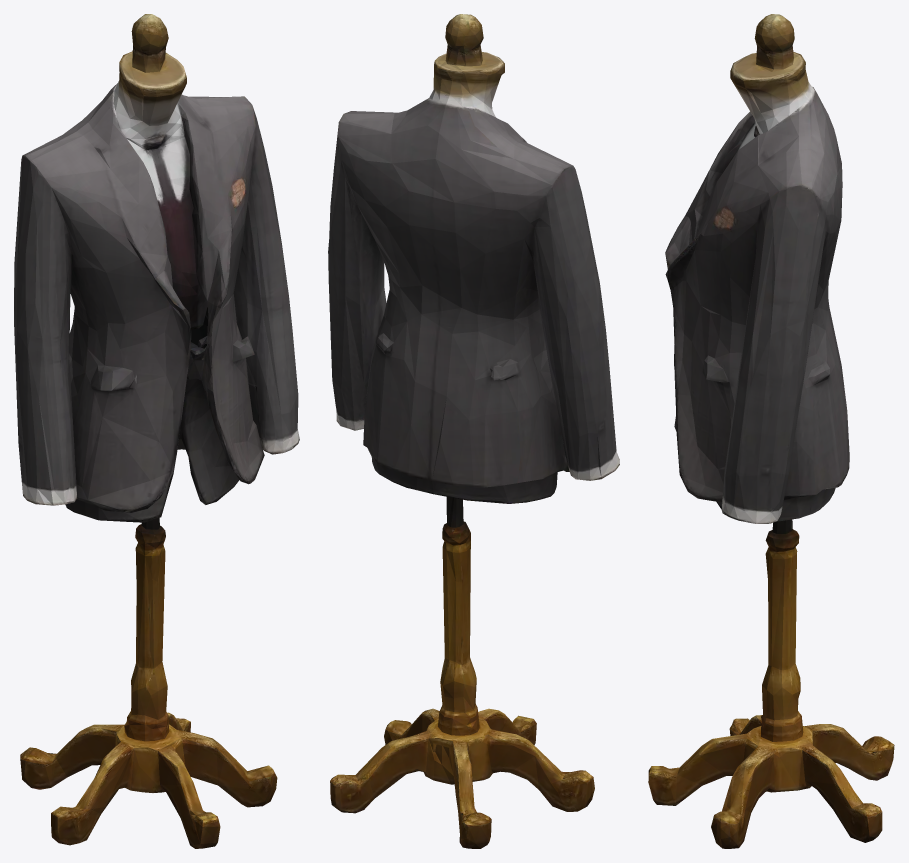
The picture shows the model from 3 angles, left to right: view 1: azimuth 30°, elevation 25°; view 2: azimuth 150°, elevation 25°; view 3: azimuth 270°, elevation 25°; orthographic projection.
Parts seen in each view (by area): view 1: geometry_0; view 2: geometry_0; view 3: geometry_0.
Boxes of the visible parts, x1,y1,x2,y2 form: geometry_0: (14, 14, 299, 848); geometry_0: (328, 14, 619, 848); geometry_0: (648, 14, 894, 848).
Bounding box in the file's own units: 0.3618 × 0.9983 × 0.2823.
1 material, 1 textured.
